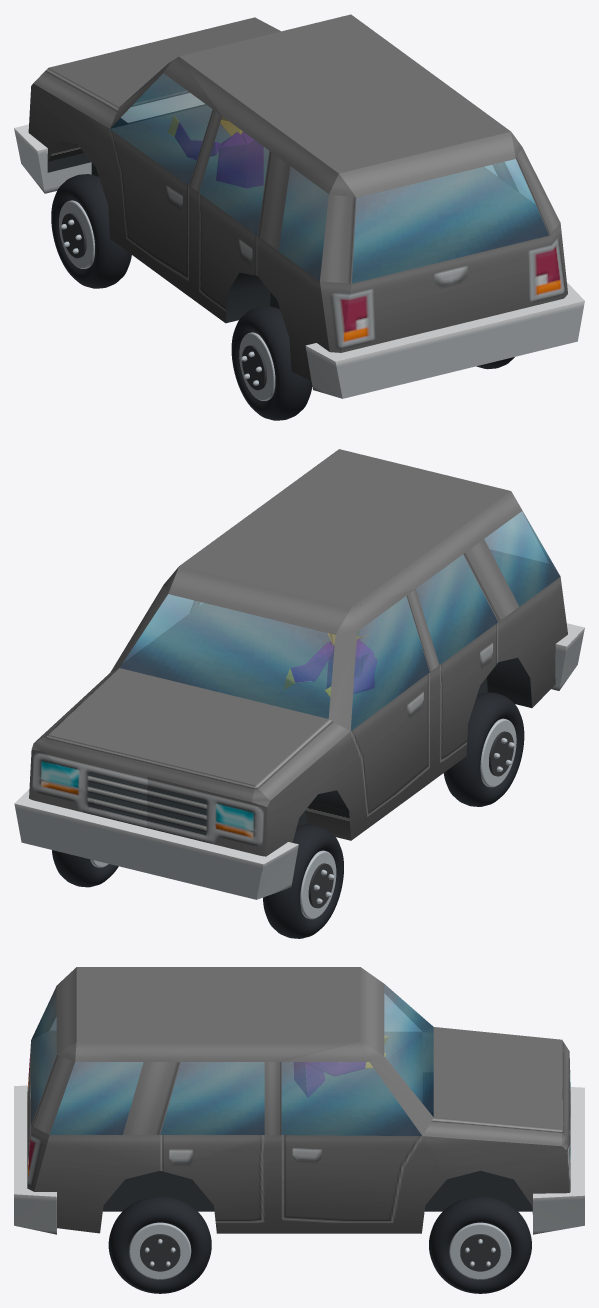
File: car-suva.glb
3 renders of one model, top to bottom at view 1: azimuth 30°, elevation 25°; view 2: azimuth 150°, elevation 25°; view 3: azimuth 270°, elevation 25°, orthographic. The views are drawn at different scales.
Visible parts, largest first — view 1: SUVAShape, windShape.007, suva wheel assembly.001, suva wheel assembly.002, SUVAShape.001; view 2: SUVAShape, windShape.007, suva wheel assembly.001, suva wheel assembly.002, SUVAShape.001, suva wheel assembly.003; view 3: SUVAShape, windShape.007, suva wheel assembly, suva wheel assembly.003, SUVAShape.001.
Boxes of the visible parts, x1,y1,x2,y2 form: SUVAShape: [14, 14, 584, 398]; windShape.007: [110, 73, 548, 283]; suva wheel assembly.001: [231, 306, 312, 420]; suva wheel assembly.002: [51, 174, 131, 288]; SUVAShape.001: [168, 116, 263, 187]; SUVAShape: [14, 449, 584, 899]; windShape.007: [120, 511, 560, 730]; suva wheel assembly.001: [443, 692, 524, 806]; suva wheel assembly.002: [263, 824, 343, 938]; SUVAShape.001: [284, 630, 377, 696]; suva wheel assembly.003: [52, 850, 118, 887]; SUVAShape: [14, 967, 584, 1234]; windShape.007: [31, 984, 433, 1135]; suva wheel assembly: [108, 1196, 211, 1293]; suva wheel assembly.003: [429, 1196, 531, 1293]; SUVAShape.001: [294, 1036, 388, 1097].
Bounding box in the file's own units: 2.4 × 2.39 × 5.12.
6 materials, 3 textured.
